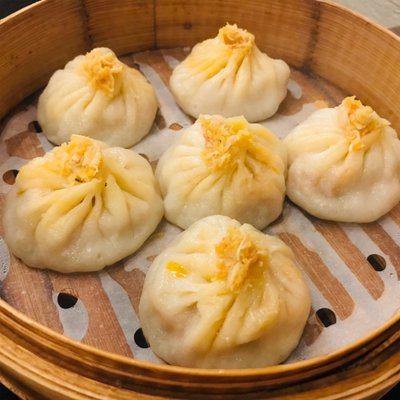salad: (2, 135, 165, 274), (156, 113, 287, 232), (36, 47, 159, 149)
